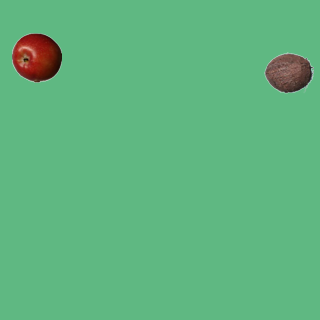Apple Braeburn: (11, 32, 61, 82)
Cocos: (263, 47, 313, 97)
